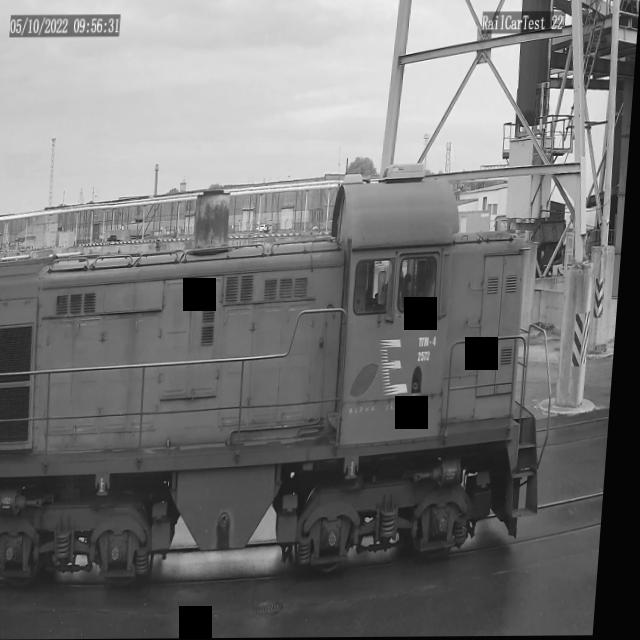locomotive: (0, 147, 579, 612)
